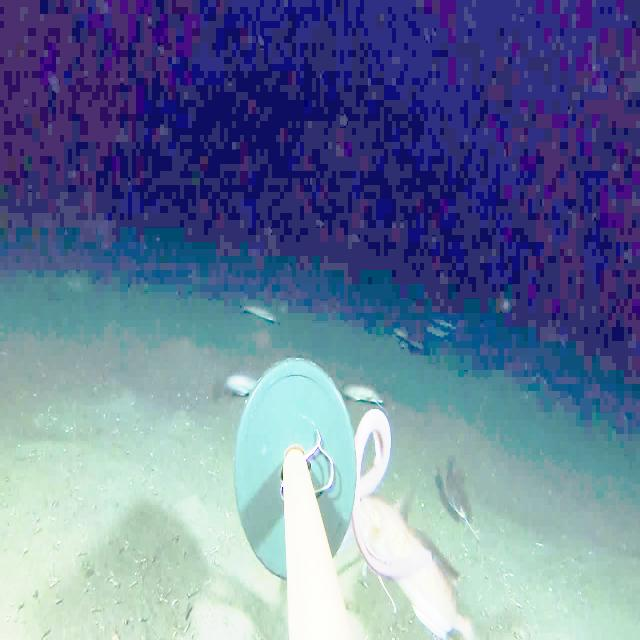eel: (345, 409, 434, 584)
fish: (350, 491, 486, 639), (433, 448, 479, 530), (338, 362, 400, 410), (212, 356, 269, 404), (239, 292, 289, 330), (424, 305, 460, 347), (392, 319, 430, 355)
pole: (235, 353, 357, 639)
